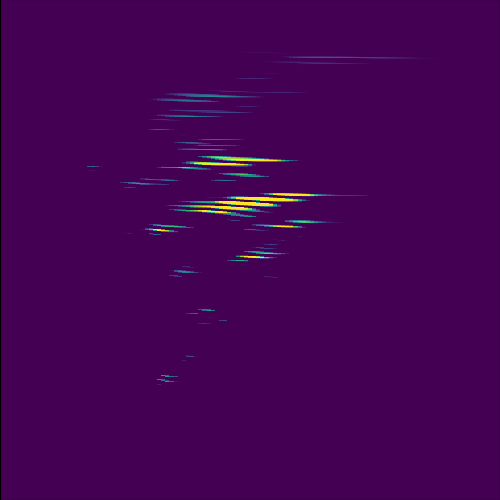semblance: (173, 189, 335, 219), (159, 152, 296, 172)
